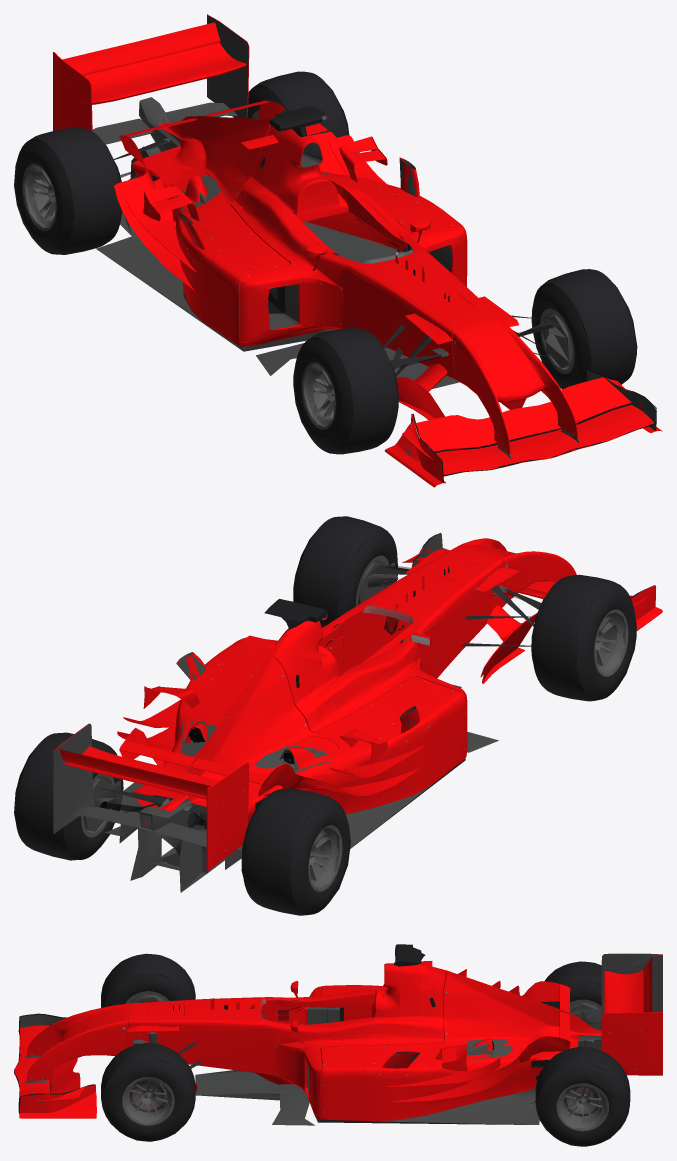
The model's file is f1-05-williams.glb.
3 views of the same model, one above another, from view 1: azimuth 30°, elevation 25°; view 2: azimuth 150°, elevation 25°; view 3: azimuth 270°, elevation 25° (orthographic). The views are drawn at different scales.
Visible parts, largest first — view 1: BODY, WHEEL_RR, WHEEL_RF, WHEEL_LF, WHEEL_LR, AERO_WING, GLASS; view 2: BODY, WHEEL_RR, WHEEL_RF, WHEEL_LF, WHEEL_LR, GLASS, AERO_WING; view 3: BODY, WHEEL_LR, WHEEL_LF, WHEEL_RF, WHEEL_RR, AERO_WING.
Part boxes in pixels (left/top/right/bottom): BODY: left=53, top=14, right=662, bottom=487; WHEEL_RR: left=14, top=127, right=122, bottom=254; WHEEL_RF: left=293, top=327, right=398, bottom=454; WHEEL_LF: left=531, top=269, right=637, bottom=389; WHEEL_LR: left=247, top=71, right=349, bottom=137; AERO_WING: left=241, top=123, right=518, bottom=344; GLASS: left=120, top=116, right=554, bottom=368; BODY: left=53, top=533, right=662, bottom=892; WHEEL_RR: left=241, top=788, right=350, bottom=915; WHEEL_RF: left=531, top=574, right=636, bottom=701; WHEEL_LF: left=293, top=516, right=397, bottom=627; WHEEL_LR: left=14, top=732, right=123, bottom=860; GLASS: left=99, top=565, right=521, bottom=872; AERO_WING: left=241, top=550, right=519, bottom=659; BODY: left=14, top=944, right=662, bottom=1125; WHEEL_LR: left=535, top=1046, right=630, bottom=1146; WHEEL_LF: left=101, top=1043, right=195, bottom=1141; WHEEL_RF: left=101, top=953, right=195, bottom=1007; WHEEL_RR: left=541, top=961, right=601, bottom=1030; AERO_WING: left=127, top=961, right=432, bottom=1034.
Size of the model in its own units: 1.91 by 1.15 by 4.65.
